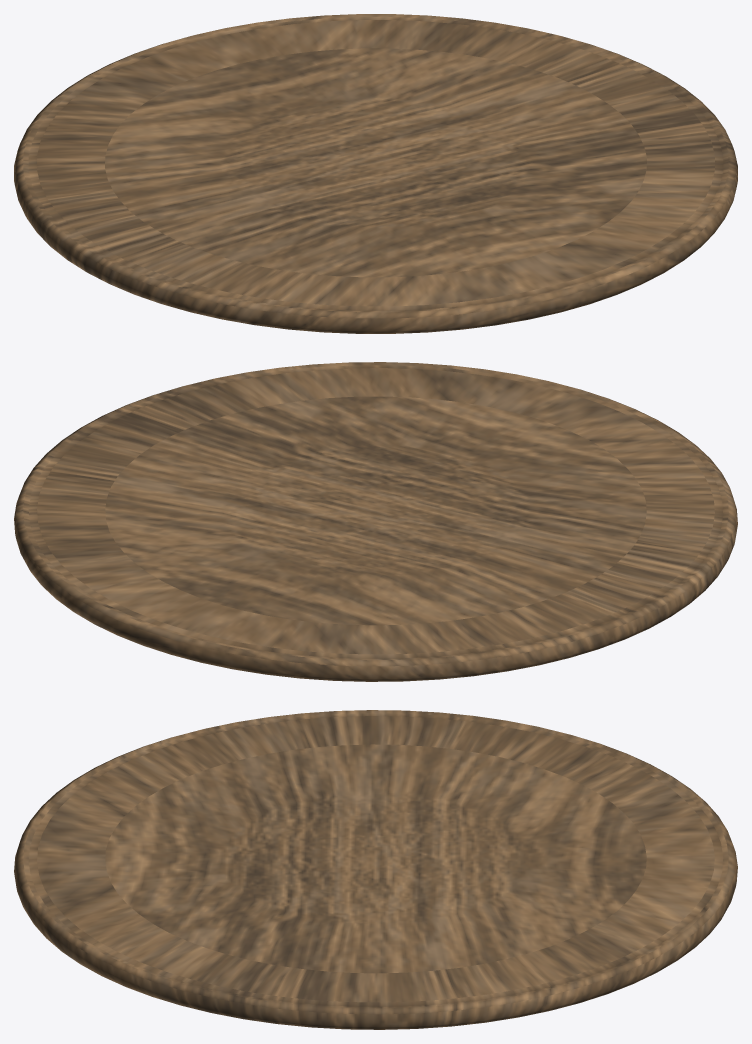
Rendered from pizza tray.fbx.
3 views of the same model, one above another, from view 1: azimuth 30°, elevation 25°; view 2: azimuth 150°, elevation 25°; view 3: azimuth 270°, elevation 25° (orthographic).
Visible parts, largest first — view 1: Wood_deck; view 2: Wood_deck; view 3: Wood_deck.
Boxes of the visible parts, box(x1,y1,x2,y2) form: Wood_deck: box(14, 14, 737, 333); Wood_deck: box(14, 362, 737, 681); Wood_deck: box(14, 710, 737, 1029).
Bounding box in the file's own units: 60.1 × 1.92 × 60.1.
